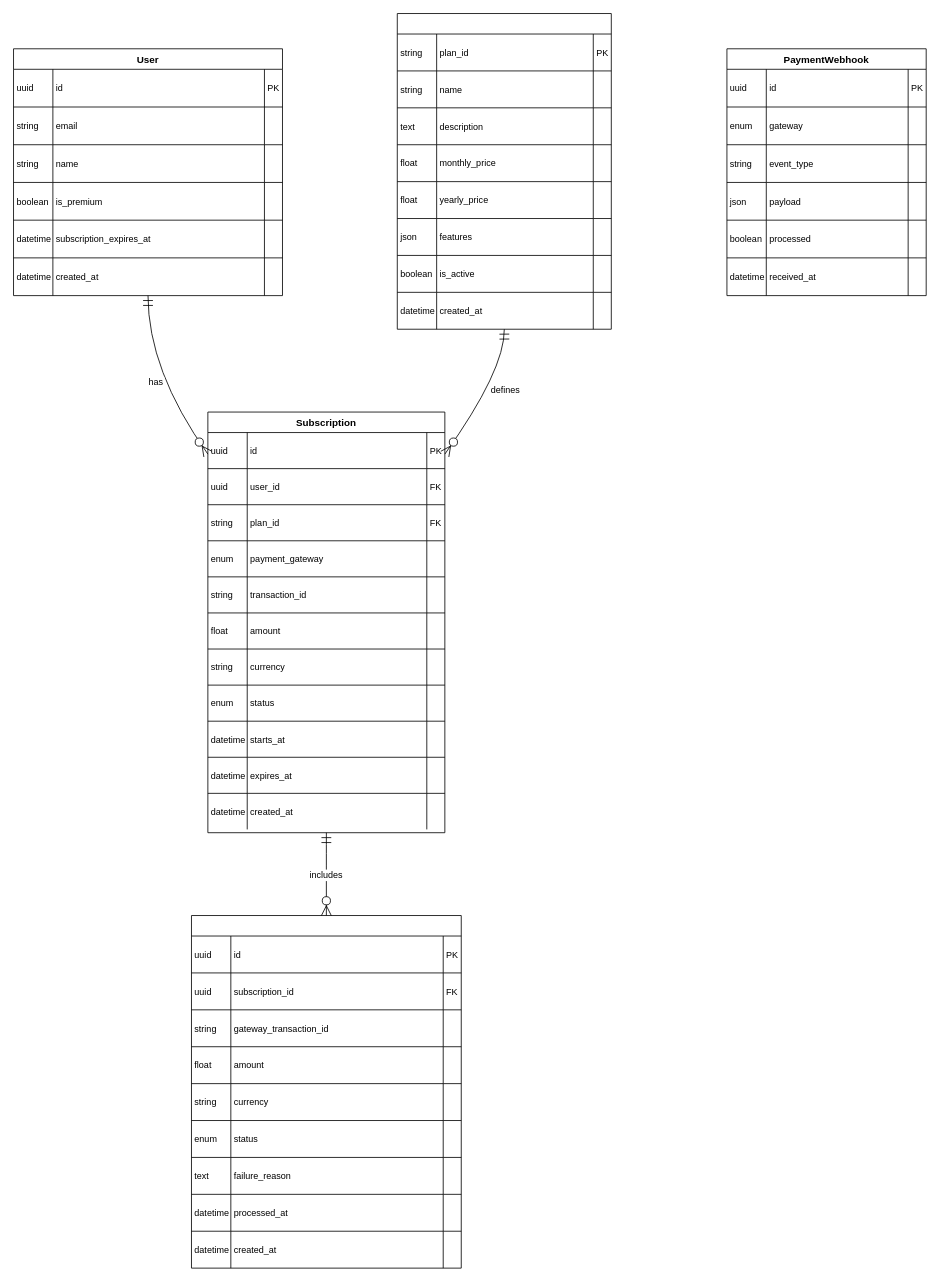
Image size: 940x1282. Some labels were removed from this diagram. The shapes that lost their labels are listed below. From the top down, each one's box as (x1, y1, x2, y2) in pixels, then its label:
(396, 13, 611, 329): SubscriptionPlan
(191, 915, 461, 1268): PaymentTransaction
